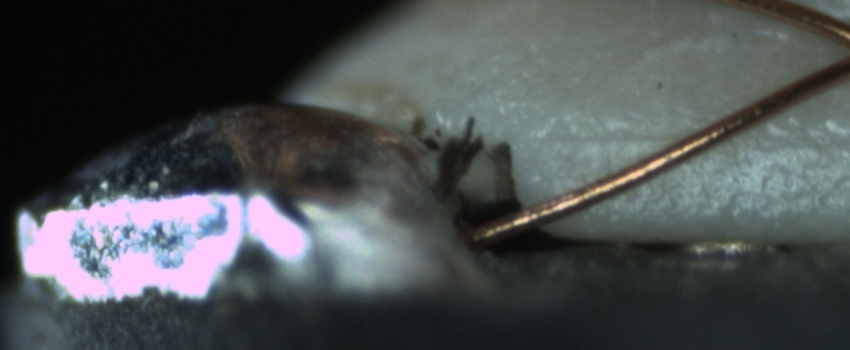CL: (831, 21, 850, 78)
DL: (551, 107, 844, 168)
